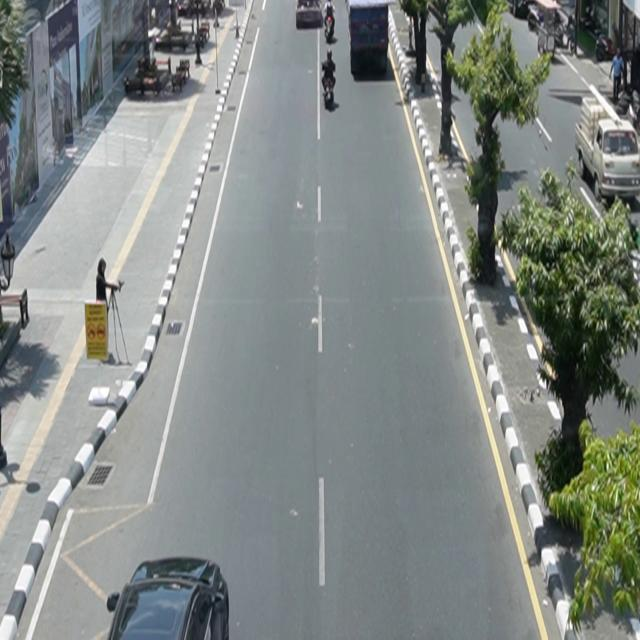bus: (348, 1, 389, 76)
car: (107, 557, 230, 640)
